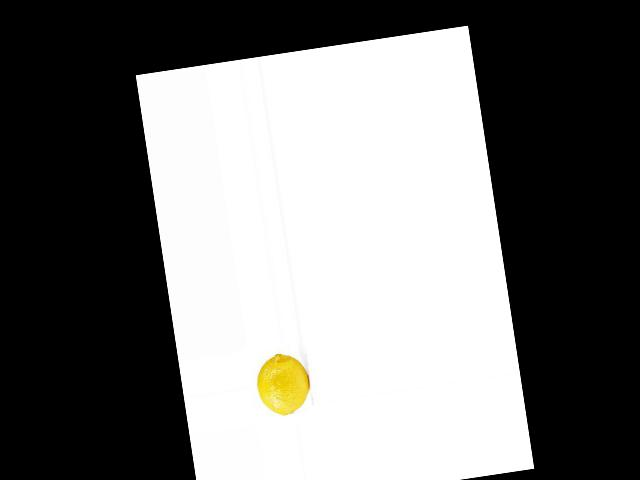lemon: (250, 340, 315, 425)
